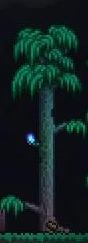tree: (1, 1, 88, 243)
